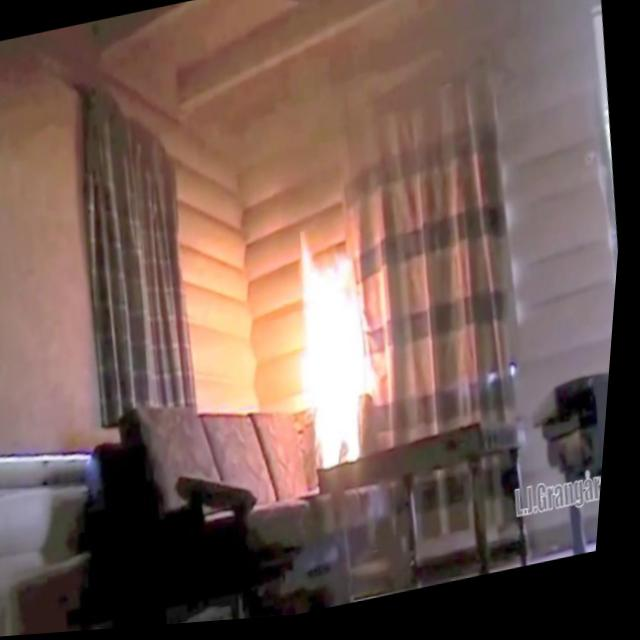fire: (277, 212, 410, 486)
